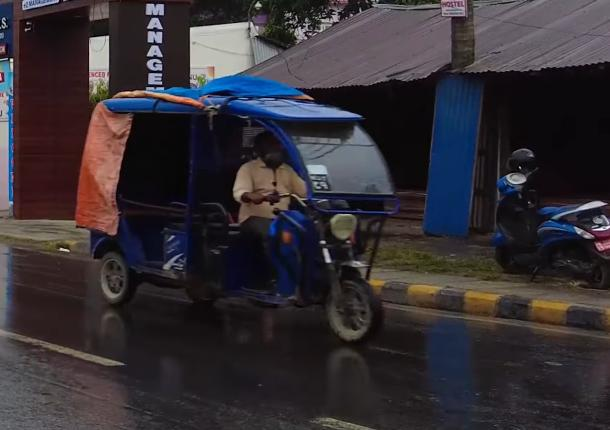e-rickshaw: (65, 64, 402, 360)
scooter: (491, 162, 610, 289)
